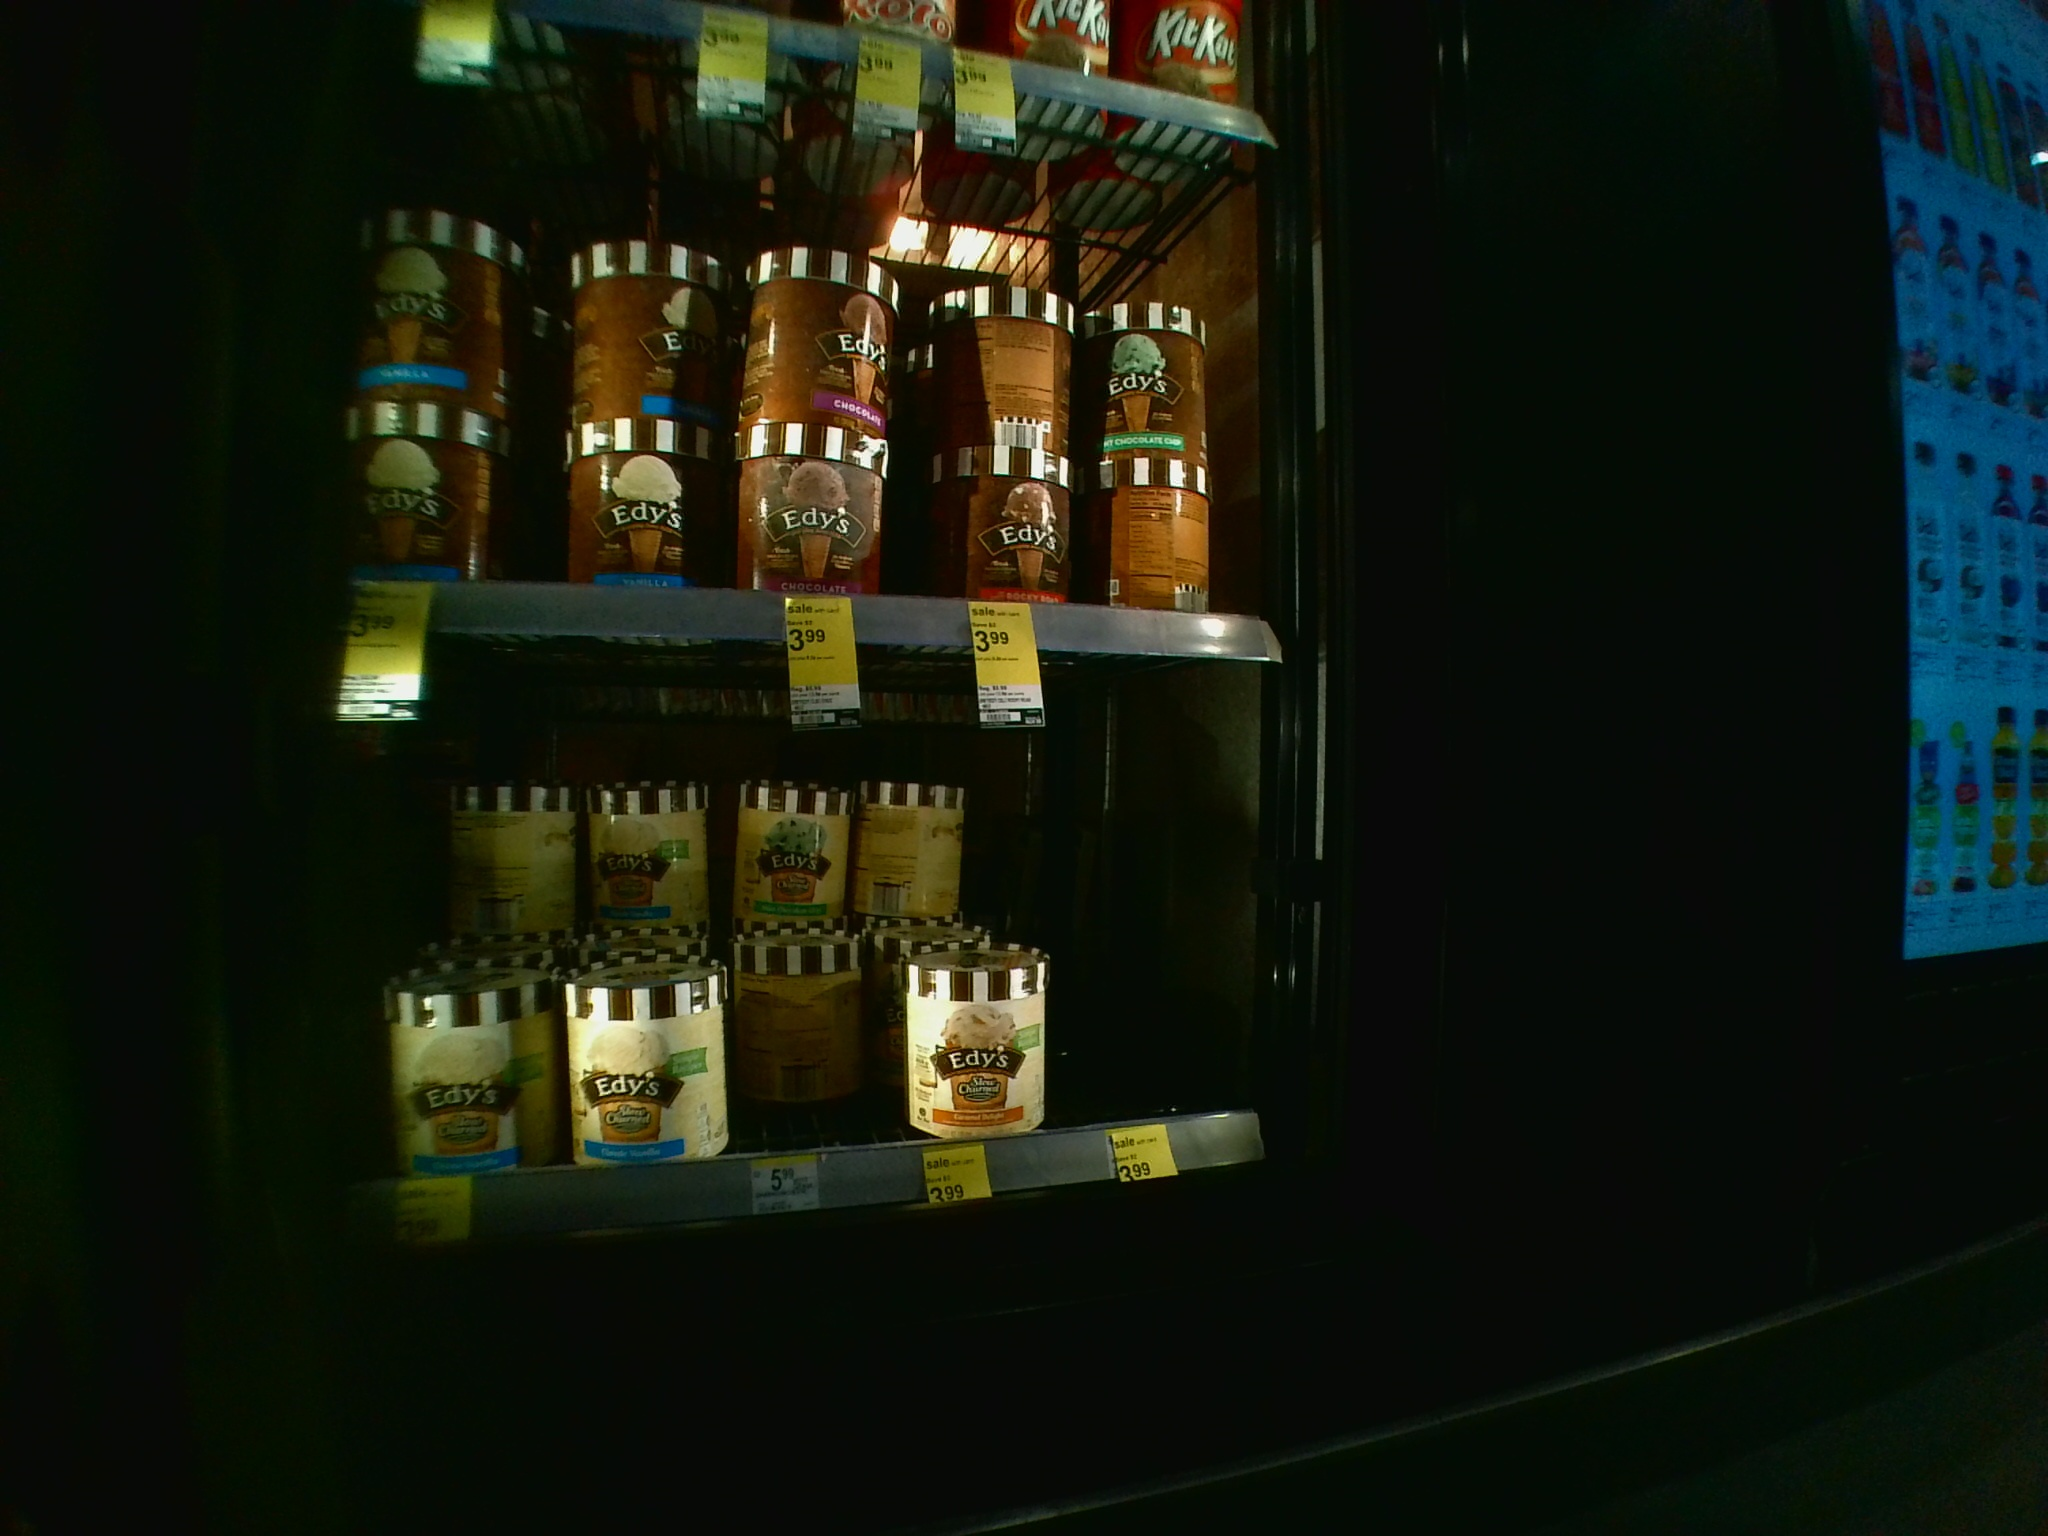shelf: (253, 140, 1295, 663), (255, 678, 1290, 1189)
